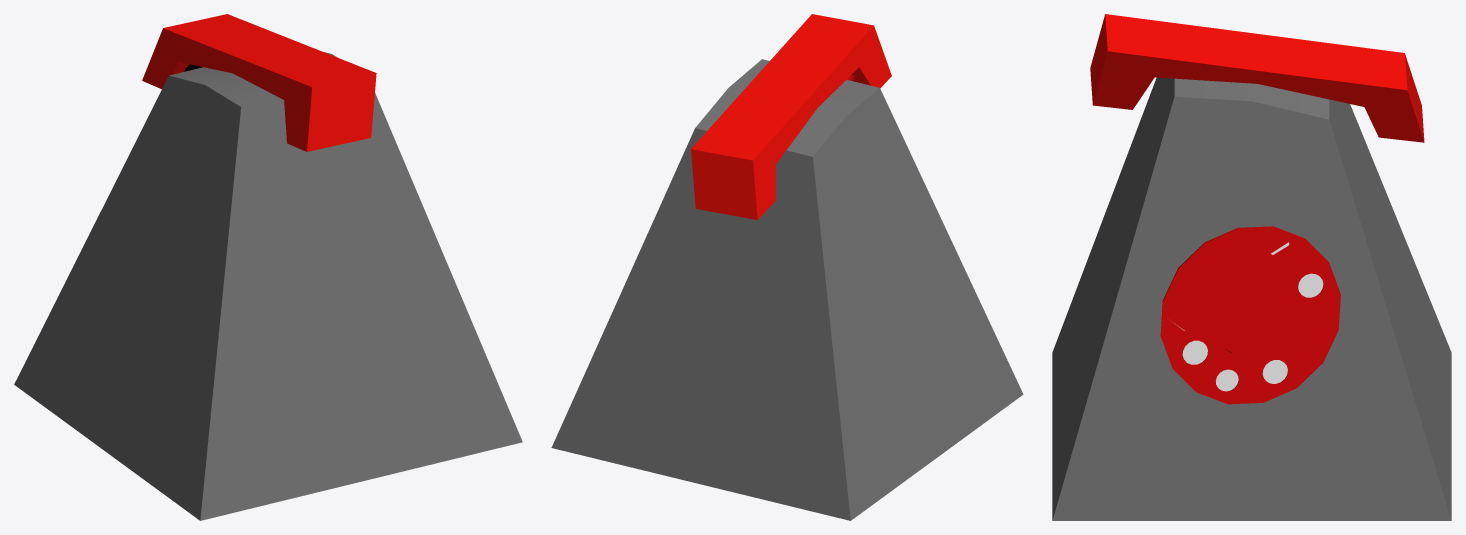
Rendered from phone 1.fbx.
3 views of the same model, side by side, from view 1: azimuth 30°, elevation 25°; view 2: azimuth 150°, elevation 25°; view 3: azimuth 270°, elevation 25° (orthographic). The views are drawn at different scales.
Parts seen in each view (by area): view 1: Cube, Cube.001; view 2: Cube, Cube.001; view 3: Cube, Cube.001.
Part boxes in pixels (x1,y1,x2,y2): Cube: [14, 52, 522, 520]; Cube.001: [142, 14, 376, 151]; Cube: [551, 59, 1023, 520]; Cube.001: [691, 14, 891, 220]; Cube: [1052, 77, 1451, 520]; Cube.001: [1090, 14, 1424, 142].
Size of the model in its own units: 200 by 227 by 200.
